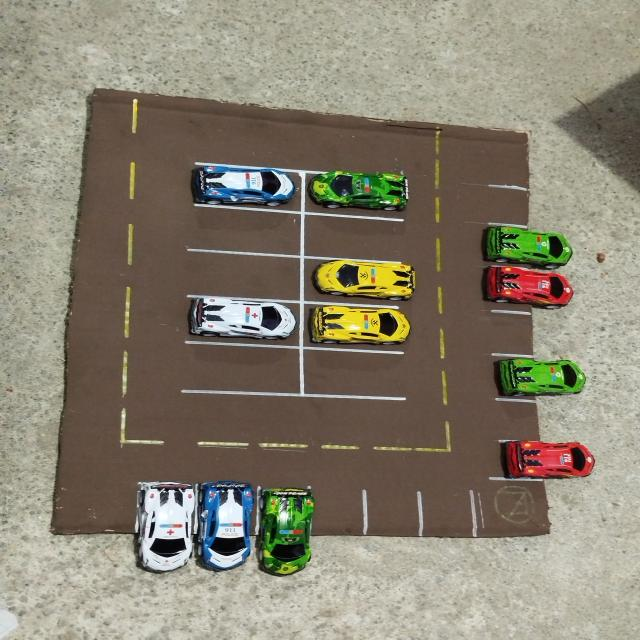libre: (55, 476, 130, 581), (182, 341, 305, 394), (186, 250, 304, 301), (189, 204, 301, 254), (300, 347, 405, 399), (482, 311, 601, 355), (417, 483, 478, 566), (302, 213, 411, 259), (488, 401, 604, 439), (363, 482, 414, 567), (316, 480, 365, 568), (482, 184, 578, 223)
no_estacionarse: (478, 478, 554, 541)
ocupado: (132, 475, 197, 579), (194, 474, 252, 580), (182, 295, 301, 343), (258, 480, 314, 577), (301, 255, 416, 302), (301, 300, 409, 348), (306, 168, 412, 216), (192, 162, 301, 208), (481, 259, 576, 311), (489, 352, 592, 399), (481, 220, 576, 268), (494, 440, 598, 480)
